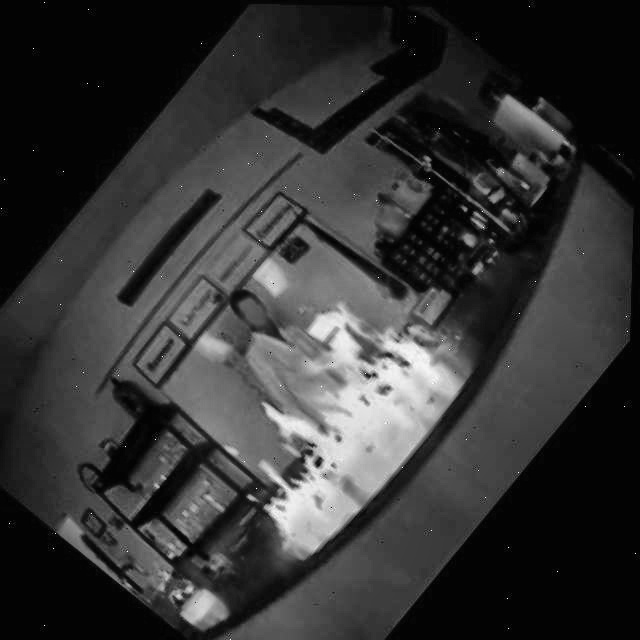Fire: (187, 259, 466, 557)
